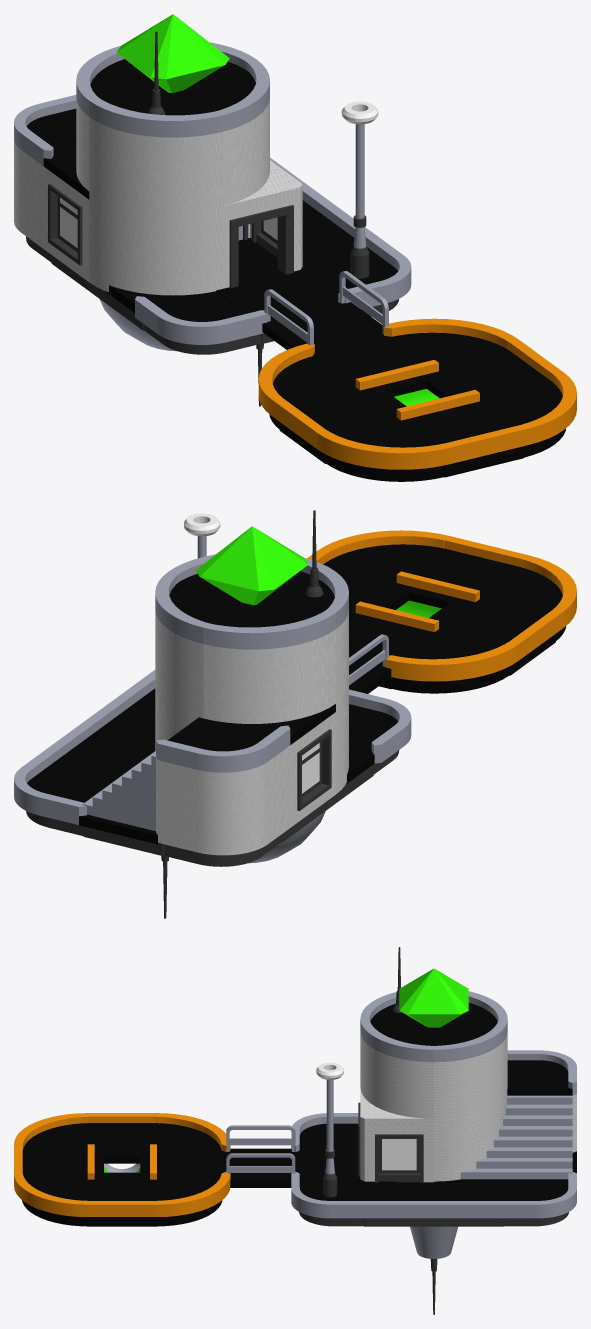
Rendered from MiniSpaceStop.obj.
3 renders of one model, top to bottom at view 1: azimuth 30°, elevation 25°; view 2: azimuth 150°, elevation 25°; view 3: azimuth 270°, elevation 25°, orthographic. The views are drawn at different scales.
Visible parts, largest first — view 1: mergedBlocks; view 2: mergedBlocks; view 3: mergedBlocks.
Boxes of the visible parts, x1,y1,x2,y2 form: mergedBlocks: [14, 14, 576, 481]; mergedBlocks: [14, 510, 576, 918]; mergedBlocks: [14, 947, 576, 1314].
Size of the model in its own units: 6.31 by 10.2 by 16.25.
